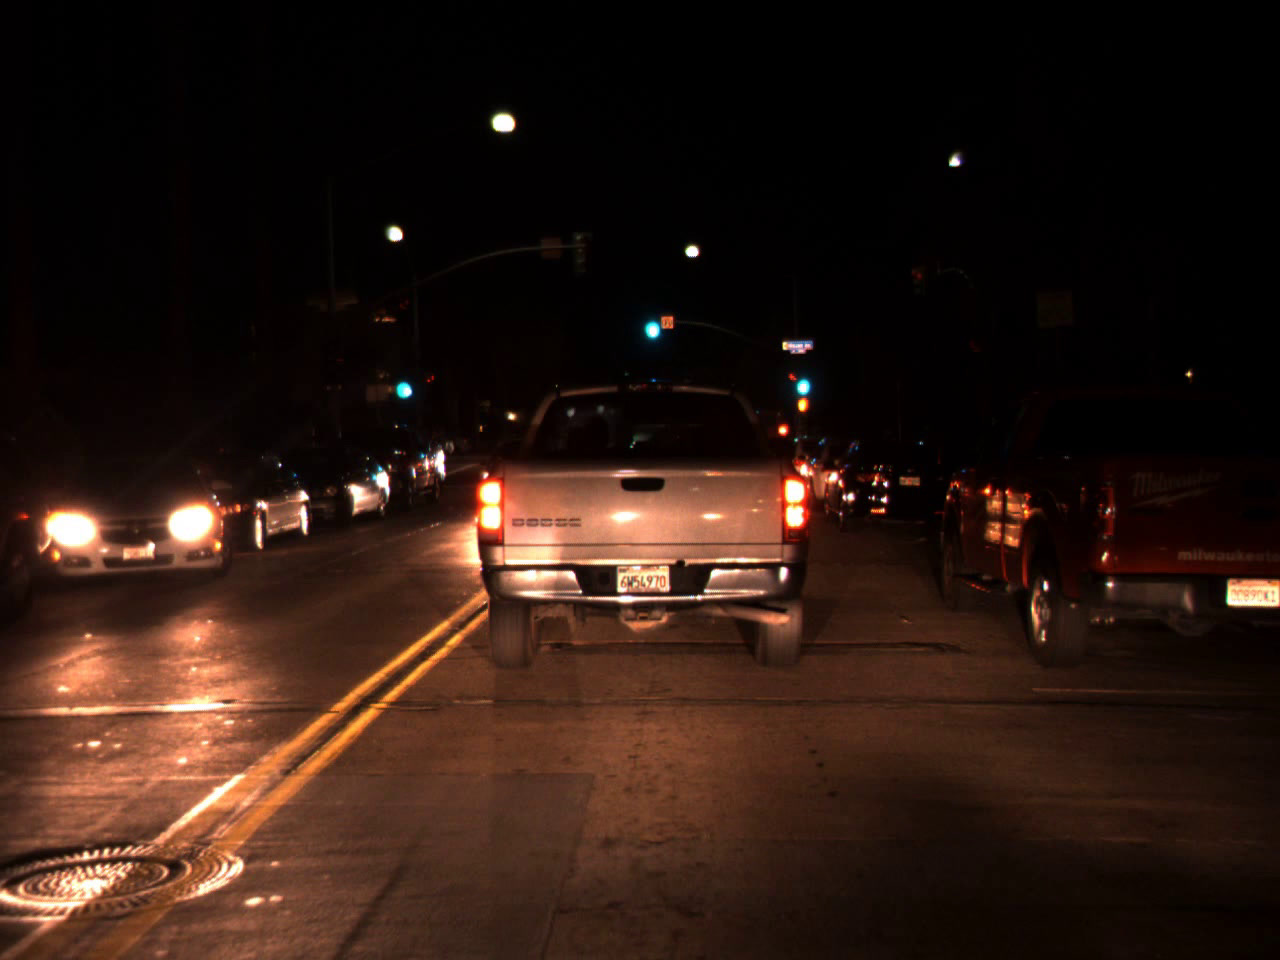go: (639, 302, 662, 344), (392, 362, 413, 404), (792, 359, 811, 401)
